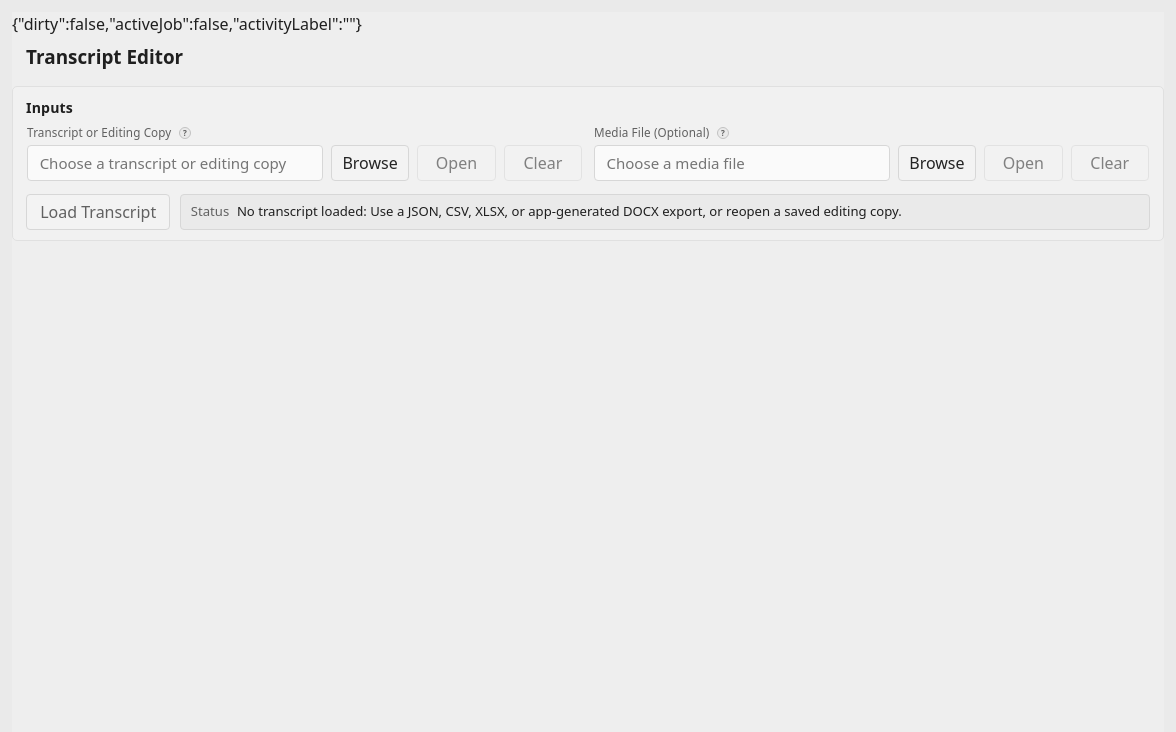
TranscriptEditorPage document workflow › locks visible mutations and keyboard shortcuts while Save owns the workspace
Step 1. Click the button "Browse" below "Transcript or Editing Copy" → {"x": 370, "y": 163}, box [331,145,409,181]
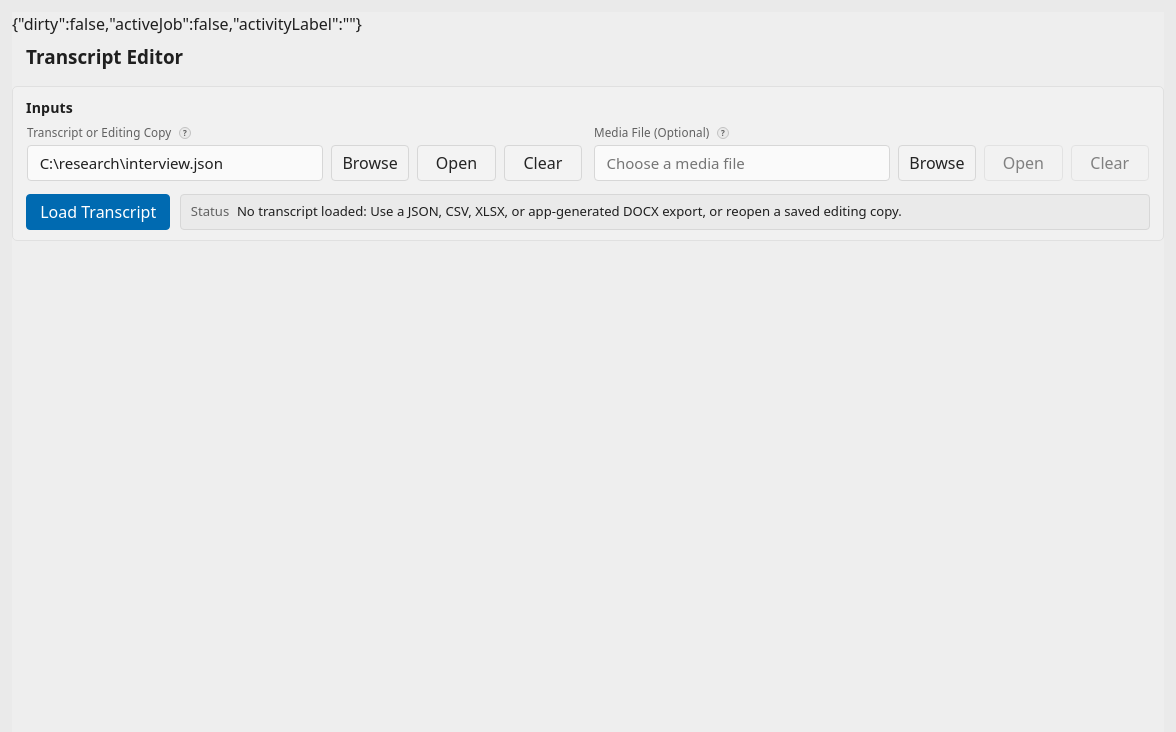
Step 2. Click the button "Load Transcript" → {"x": 98, "y": 212}, box [26,194,170,230]
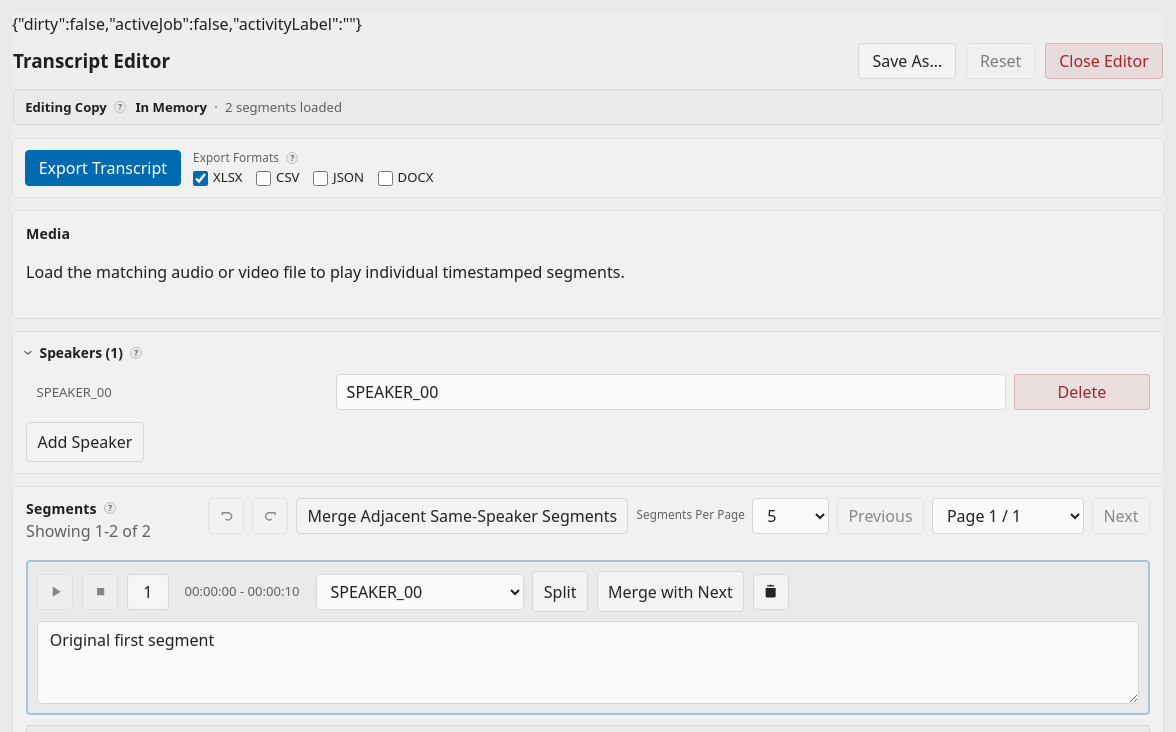
Result: the button "Save As…" is shown at [858,43,956,79]
Step 3. Replace the text in the text box showing "Original first segment" with "Unsaved" → {"x": 588, "y": 662}, box [37,621,1139,704]
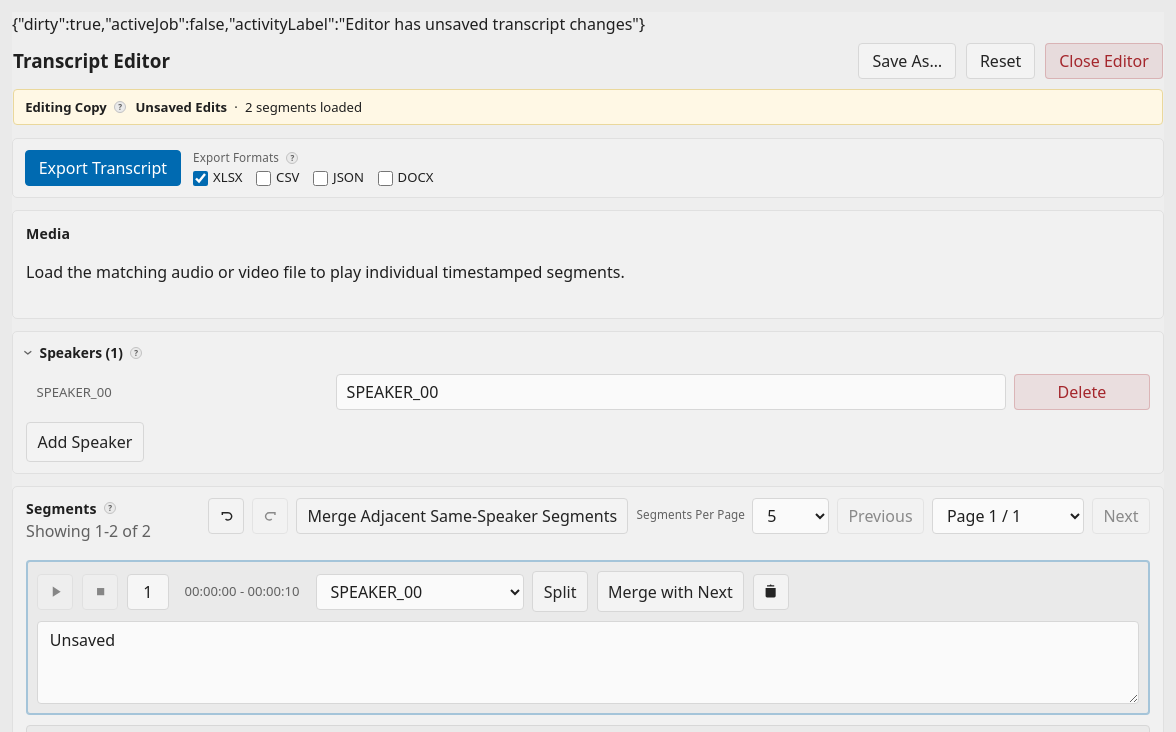
Step 4. Click the button "Save As…" → {"x": 907, "y": 61}, box [858,43,956,79]
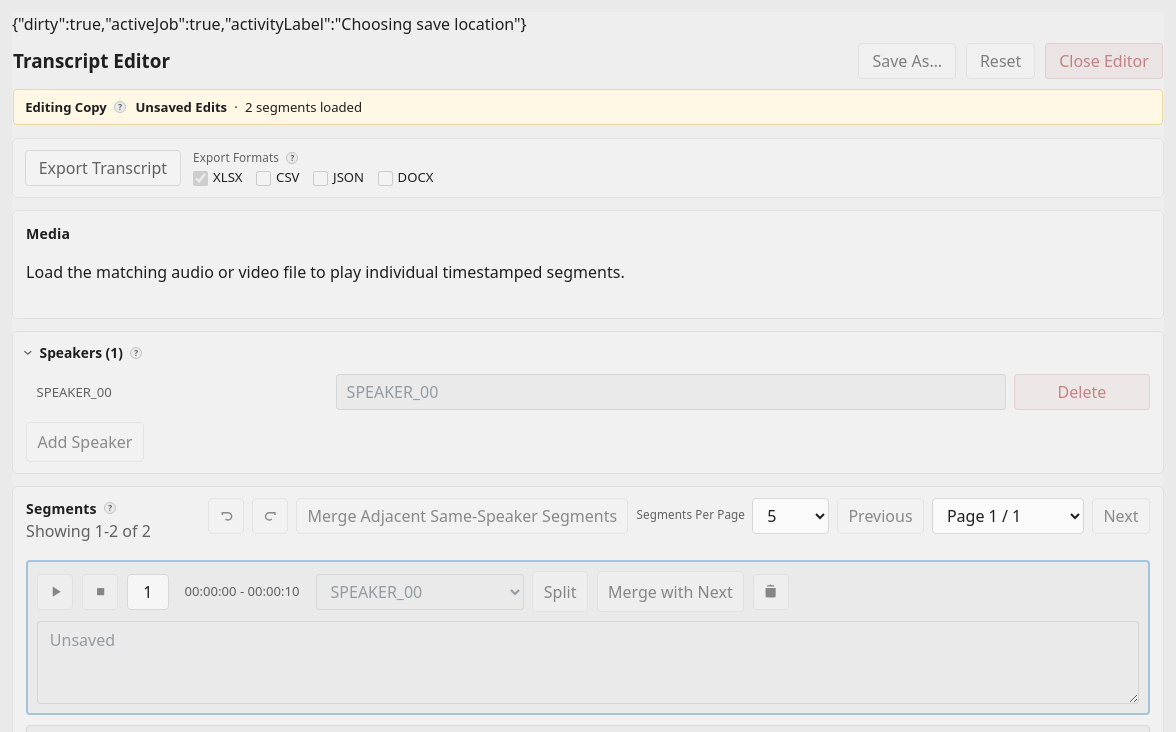
Result: the text box showing "Unsaved" is disabled at [37,621,1139,704]
Result: the button named "Delete Segment" is disabled at [753,574,789,610]
Result: the button named "Undo" is disabled at [208,498,244,534]
Step 5. Press z
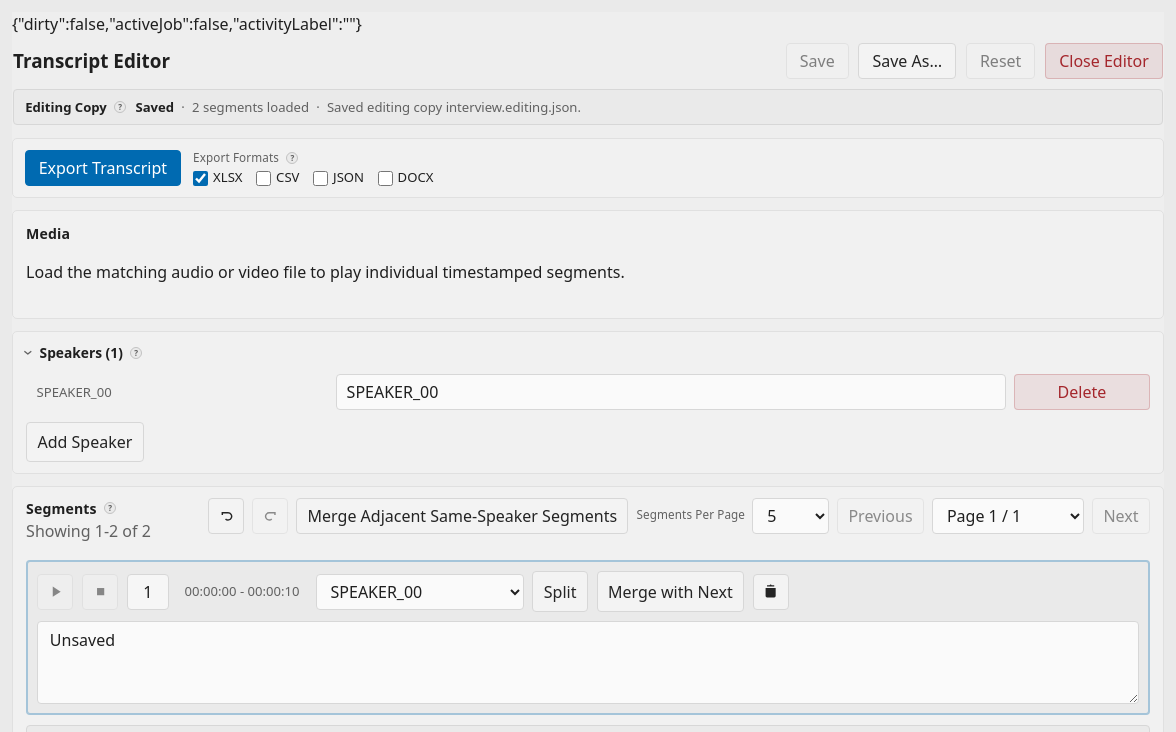
Result: the text box showing "Unsaved" is enabled at [37,621,1139,704]
